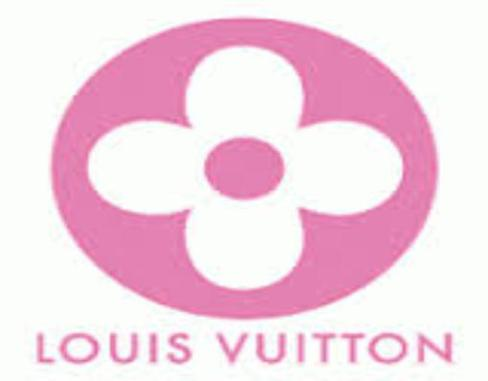LOUIS-VUITTON: (22, 327, 471, 371)
